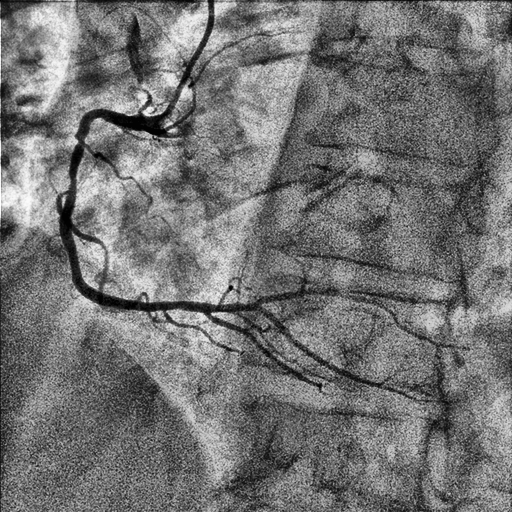pborca: (210, 289, 313, 313)
pda: (204, 313, 322, 391)
rca: (59, 109, 208, 313)
